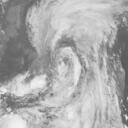cyclone: (33, 34, 96, 100)
